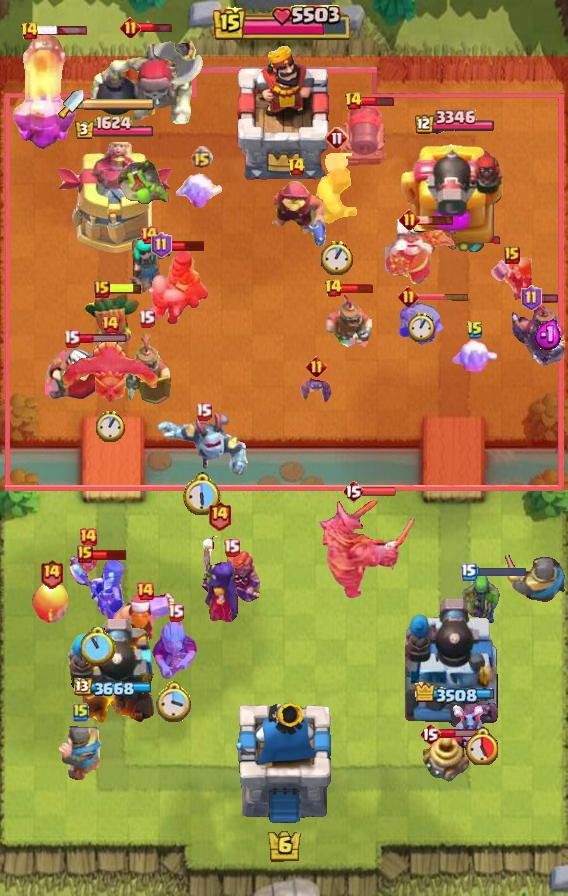axe: (147, 39, 203, 95)
bar: (475, 566, 527, 578), (36, 25, 88, 36), (439, 728, 490, 739), (77, 333, 128, 344), (416, 292, 470, 301), (91, 548, 128, 561), (169, 239, 206, 252), (107, 282, 143, 295), (138, 21, 173, 34), (418, 214, 455, 226), (360, 95, 395, 107), (361, 486, 397, 497), (340, 283, 374, 294), (540, 293, 559, 304)
bar-level: (39, 558, 64, 589), (207, 500, 232, 531), (325, 126, 349, 150), (521, 285, 542, 311), (151, 232, 172, 258), (190, 146, 213, 169), (419, 722, 441, 746), (342, 479, 364, 503), (306, 356, 327, 377), (398, 286, 419, 307), (399, 209, 420, 230), (120, 17, 141, 38), (135, 581, 155, 601), (78, 527, 98, 547), (100, 314, 120, 334), (139, 225, 159, 245), (324, 278, 343, 298), (287, 157, 306, 177), (344, 91, 363, 111), (20, 21, 39, 41), (466, 320, 484, 340), (167, 603, 184, 622), (223, 538, 240, 557), (195, 402, 212, 421), (63, 329, 80, 348), (138, 309, 155, 328), (73, 702, 89, 722), (461, 563, 477, 581), (77, 545, 93, 563), (94, 280, 110, 298), (504, 246, 520, 264)
barbarian-evolution: (398, 299, 446, 346)
bat: (461, 700, 501, 726), (298, 376, 334, 404), (76, 548, 100, 574)
cannoneer-tower: (405, 595, 501, 731), (399, 138, 507, 256), (67, 611, 161, 731)
clock: (183, 472, 223, 516), (156, 679, 194, 722), (81, 627, 116, 666), (465, 727, 498, 765), (321, 240, 353, 275), (96, 410, 125, 442), (408, 312, 435, 342)
dagger-duchess-tower: (55, 142, 173, 256)
dagger-duchess-tower-bar: (84, 97, 156, 111)
dart-goblin: (83, 291, 143, 359)
elixir: (534, 319, 563, 351)
goblin-ball: (115, 157, 173, 205)
ice-spirit-evolution: (450, 339, 500, 377), (176, 172, 226, 210)
ice-wizard: (151, 615, 199, 679)
king-tower: (230, 43, 338, 181), (235, 703, 333, 826)
king-tower-bar: (213, 5, 355, 43)
knight: (505, 555, 568, 603), (59, 726, 103, 781)
lumberjack: (309, 153, 365, 229), (112, 589, 178, 653)
mega-minion: (155, 411, 251, 477)
minion: (453, 704, 487, 750)
night-witch: (67, 554, 129, 626)
phoenix-egg: (31, 581, 71, 625)
ram-rider: (146, 248, 210, 328)
rascal-girl: (125, 237, 173, 295)
royal-recruit: (121, 330, 171, 406), (324, 286, 374, 354)
spear-goblin: (461, 570, 501, 628)
tower-bar: (412, 110, 494, 136), (74, 115, 155, 141), (413, 682, 494, 705), (74, 678, 154, 698)
valkyrie: (489, 256, 535, 302)
valkyrie-evolution: (199, 547, 263, 605)
witch: (196, 536, 242, 624)
zappy: (420, 736, 470, 784)
